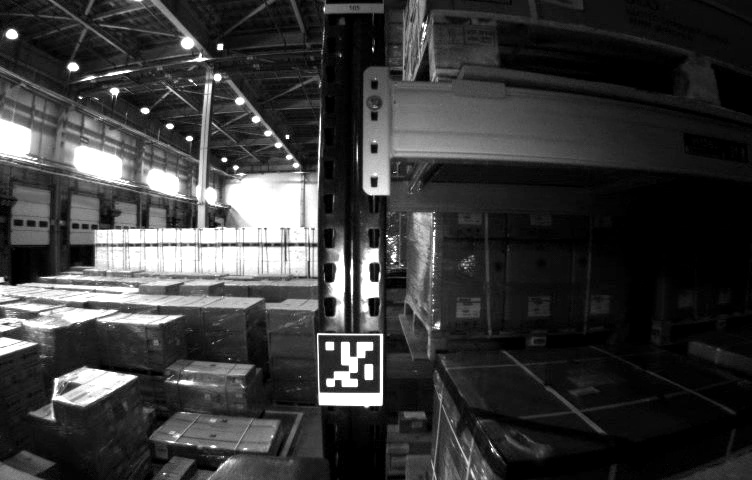True Barcode: (548, 1, 585, 13)
